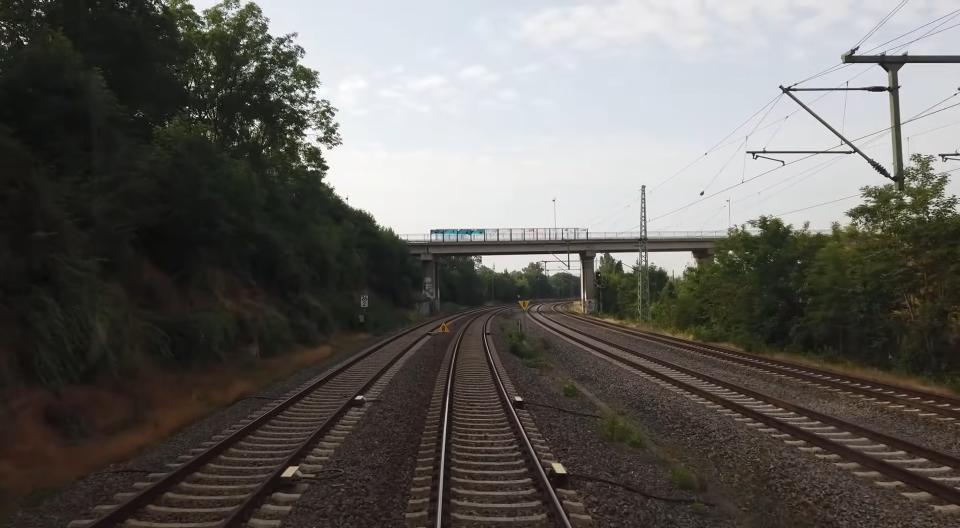Plant: (596, 409, 646, 447), (506, 330, 550, 369), (669, 464, 706, 492), (562, 382, 580, 396)
